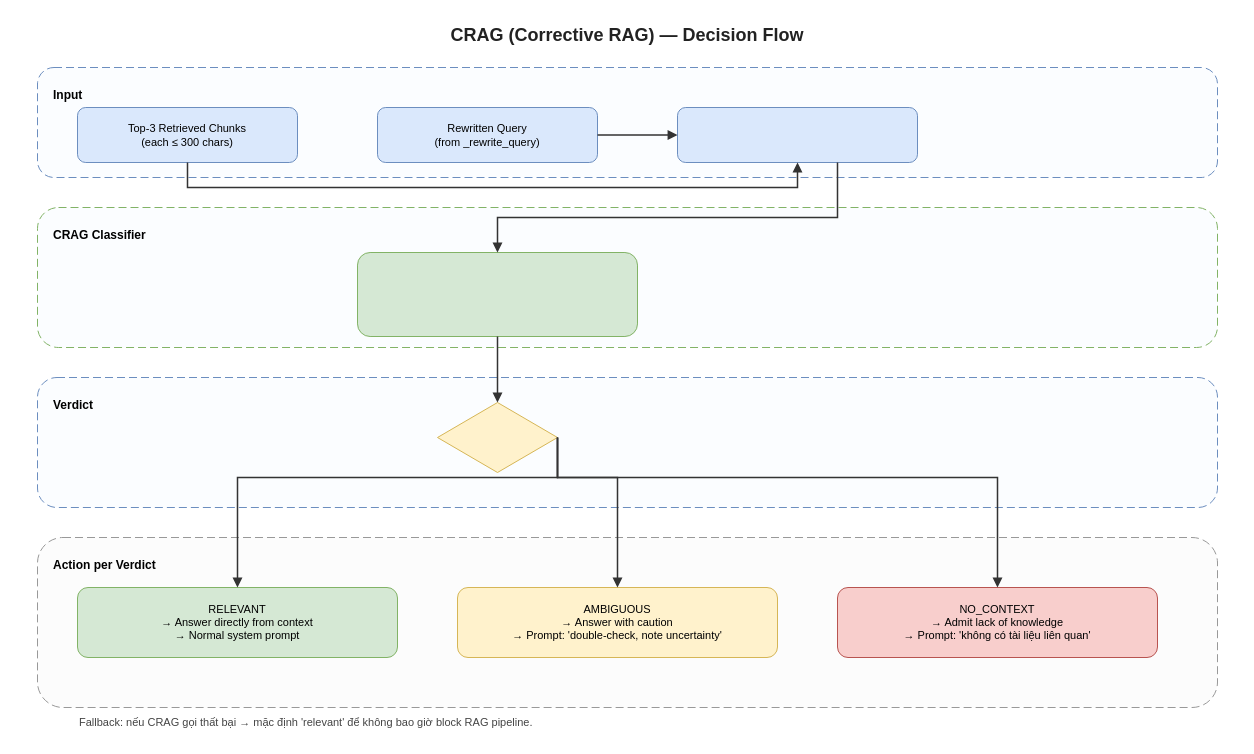
The diagram is 1254 pixels wide and 754 high, and some of its shapes have lost their labels. Here are the shapes that lost their labels. From the top down, the centre of each, then its label:
[797,134]: Prompt Assembly system + question + snippets
[497,294]: CRAG Classifier INTERNAL_LLM_MODEL (gpt-5.4-nano) temp=0.0, max_cltokens=16
[497,437]: CRAG Verdict
